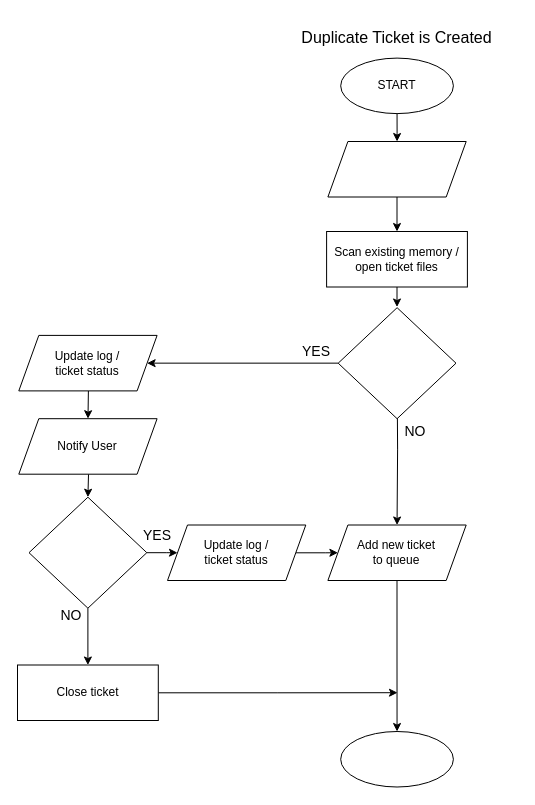
The diagram is 535 pixels wide and 805 high, and some of its shapes have lost their labels. The centre of each missing label's shape, as x and y in pixels:
"END" goes at (x=396, y=758).
"New ticket is created" goes at (x=396, y=168).
"Ticket w/ matching title / desc. exists?" goes at (x=396, y=363).
"User authorized new entry?" goes at (x=87, y=552).
